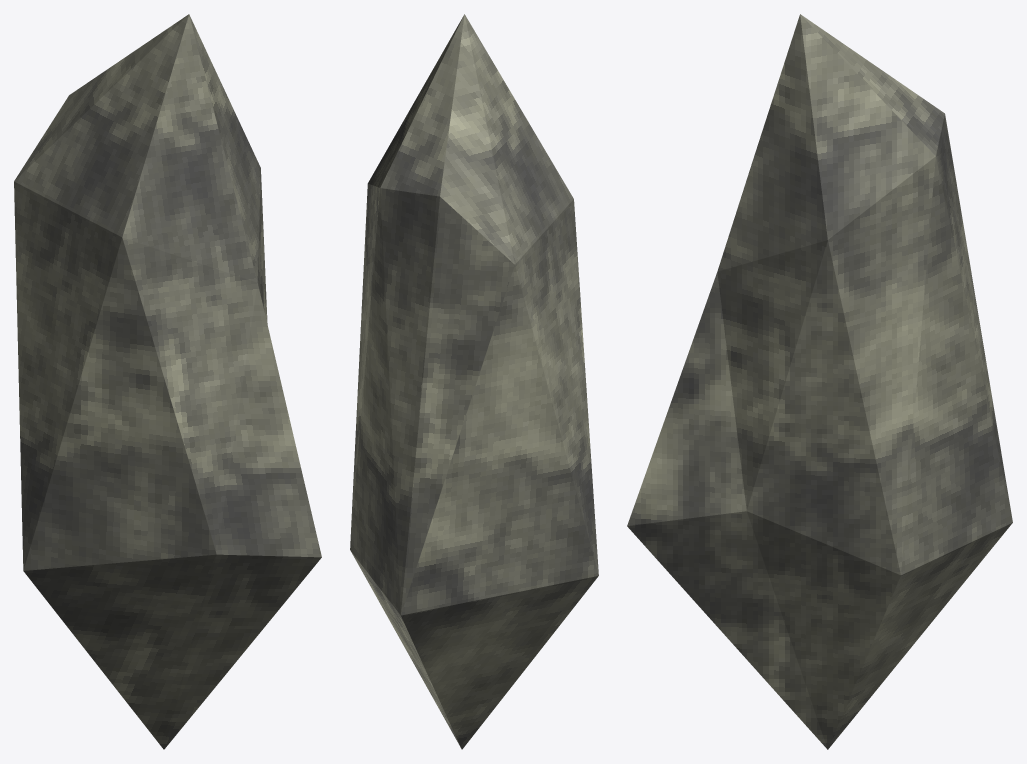
Rendered from Rock_B1.fbx.
3 views of the same model, side by side, from view 1: azimuth 30°, elevation 25°; view 2: azimuth 150°, elevation 25°; view 3: azimuth 270°, elevation 25° (orthographic). The views are drawn at different scales.
Visible parts, largest first — view 1: Rock_B1; view 2: Rock_B1; view 3: Rock_B1.
Part boxes in pixels (box(x1,y1,x2,y2)): Rock_B1: box(14, 14, 321, 749); Rock_B1: box(350, 14, 598, 749); Rock_B1: box(627, 14, 1012, 749).
Bounding box in the file's own units: 0.6442 × 1.93 × 0.9088.
